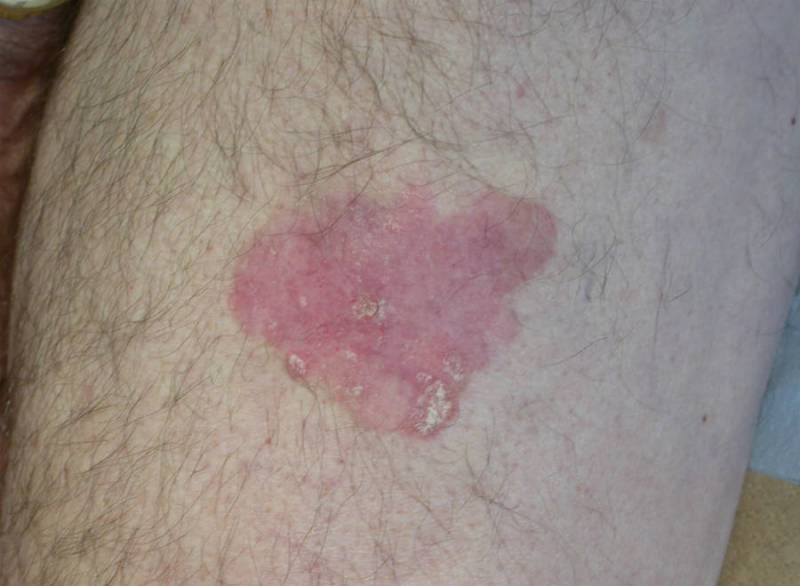Bowen: (232, 163, 555, 446)
